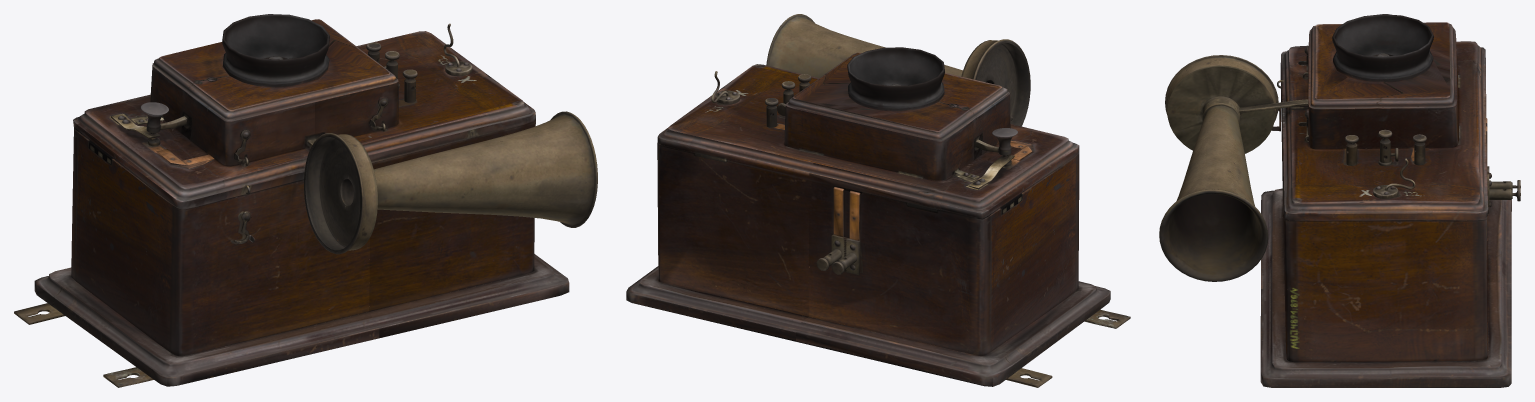
File: phone.glb
3 views of the same model, side by side, from view 1: azimuth 30°, elevation 25°; view 2: azimuth 150°, elevation 25°; view 3: azimuth 270°, elevation 25° (orthographic). The views are drawn at different scales.
Visible parts, largest first — view 1: Object_2; view 2: Object_2; view 3: Object_2.
Part boxes in pixels (left/top/right/bottom): Object_2: left=14, top=14, right=597, bottom=387; Object_2: left=626, top=14, right=1130, bottom=387; Object_2: left=1159, top=14, right=1520, bottom=387.
Size of the model in its own units: 0.4046 by 0.2321 by 0.3074.
1 material, 1 textured.
